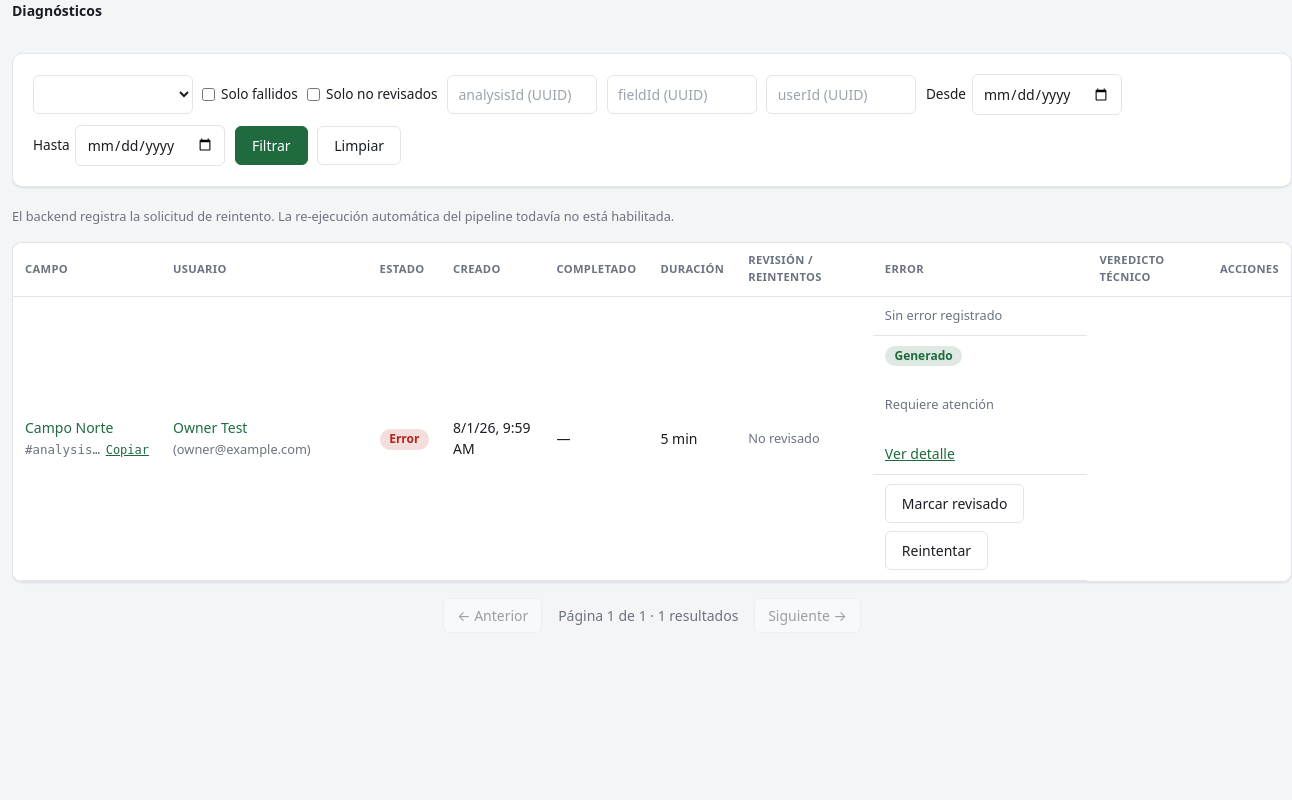
AnalysisComponent › Veredicto técnico (PR 13A) › renderiza keyFindings
This screenshot has width=1292, height=800.
Click the button "Ver detalle" at (920,454), box [885,443,955,464]
(page scrolled)
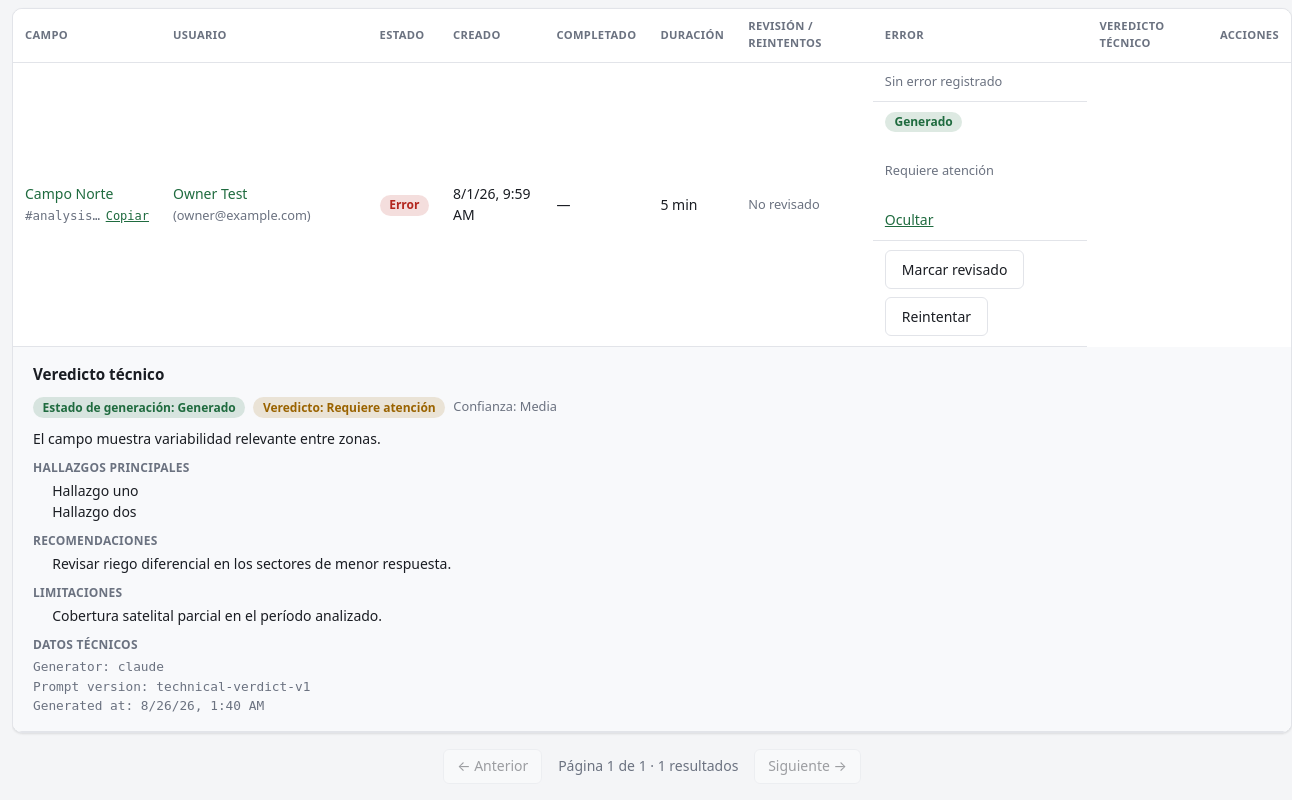
Expected: the element that starts with "Veredicto técnico" shows "Hallazgos principales", [33,459,190,476]
Expected: the element that starts with "Veredicto técnico" shows "Hallazgo uno", [52,481,139,500]
Expected: the element that starts with "Veredicto técnico" shows "Hallazgo dos", [52,502,137,521]
